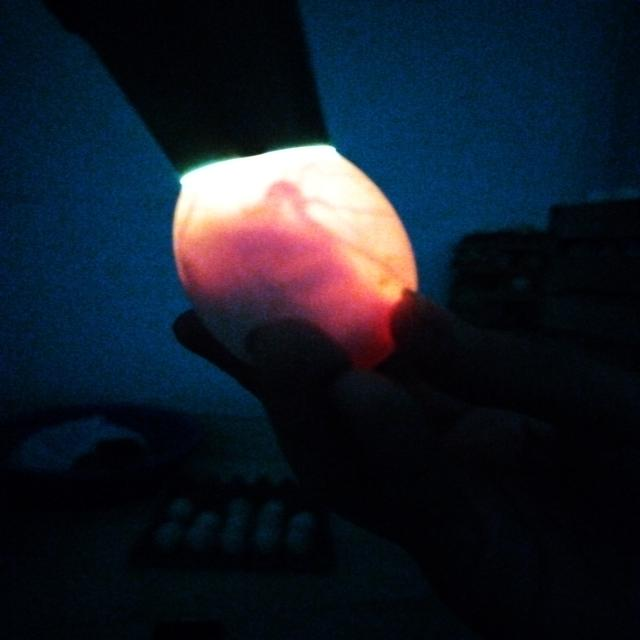Embriao: (176, 238, 389, 362)
